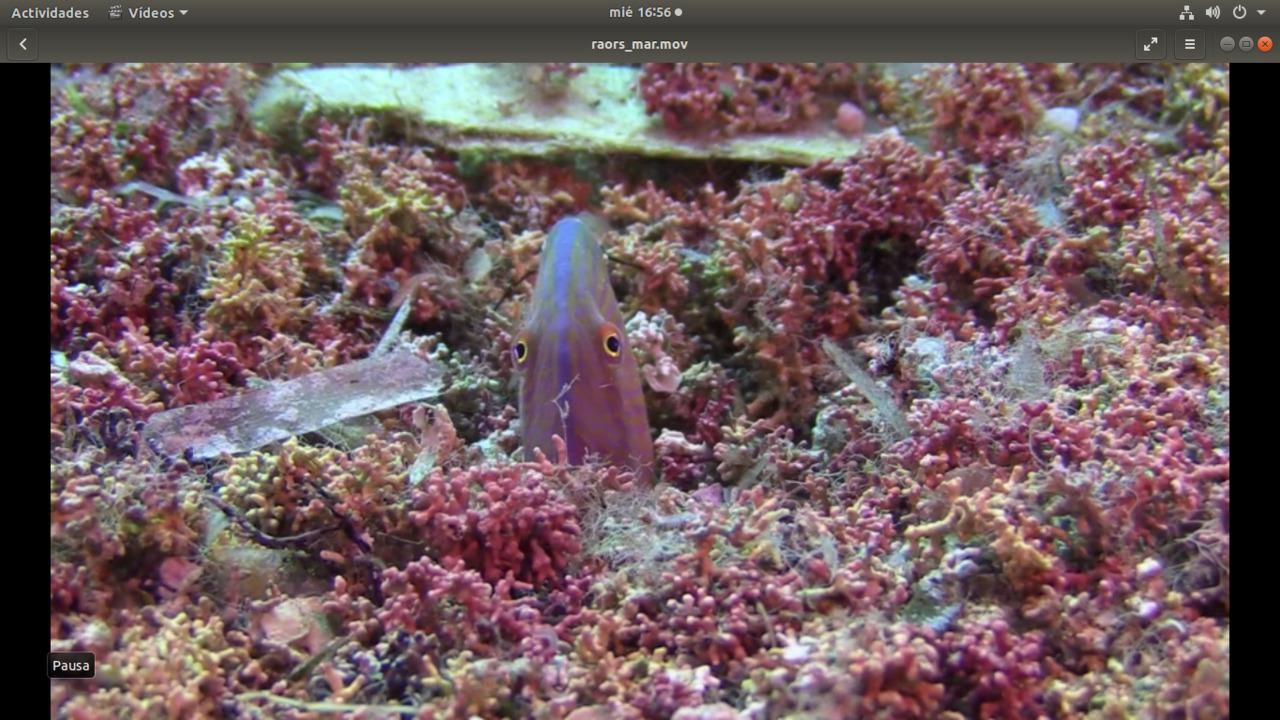raor: (505, 210, 666, 494)
